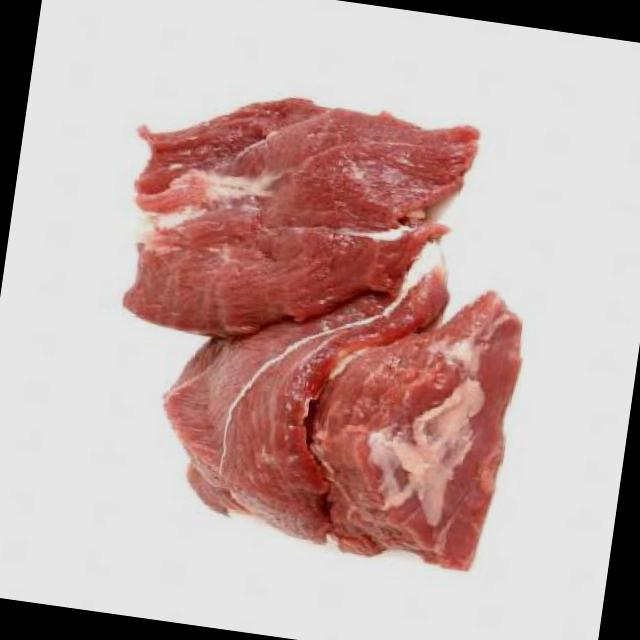beef: (140, 228, 534, 578), (110, 57, 483, 372)
